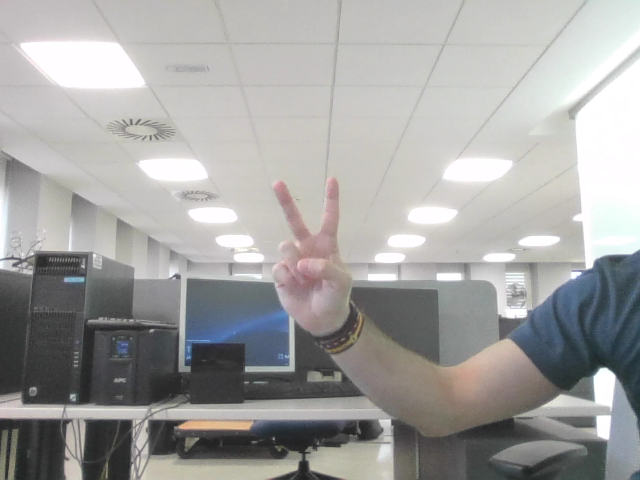2Dedos: (282, 189, 337, 296)
